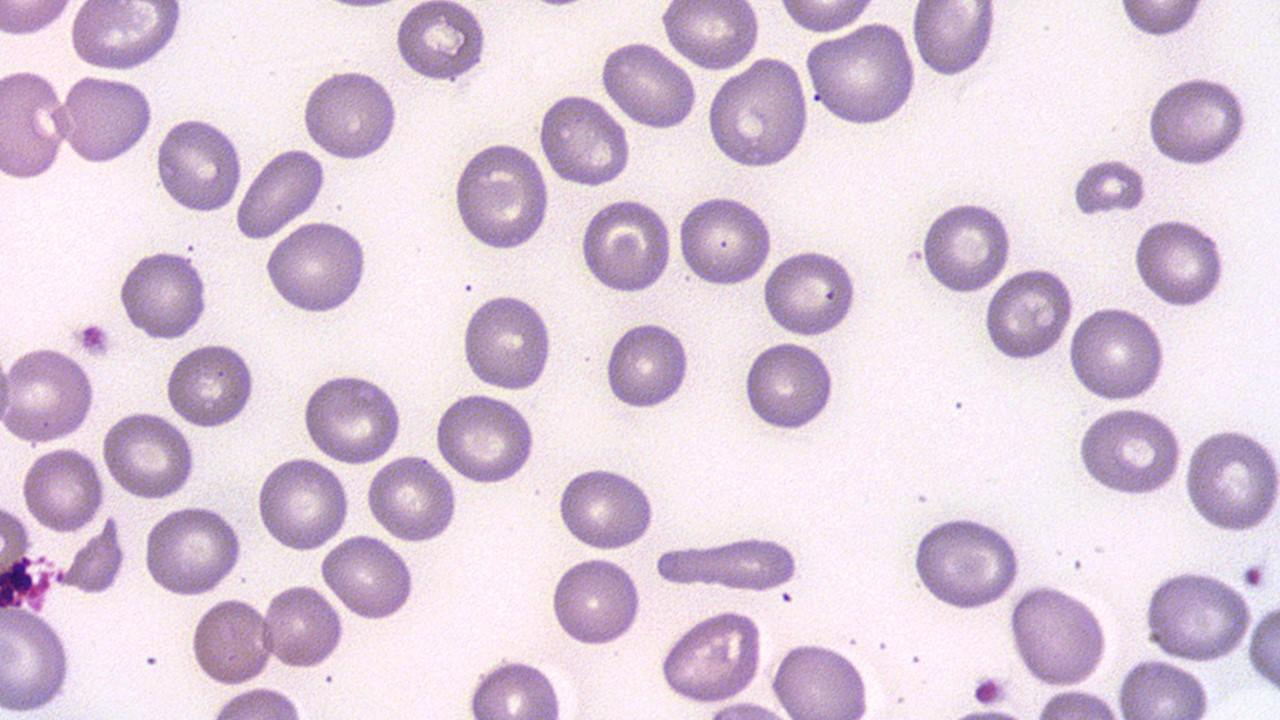Platelets: (71, 318, 115, 360)
RBC: (804, 20, 918, 129), (703, 56, 812, 170), (450, 139, 552, 252), (1139, 566, 1253, 664), (909, 514, 1023, 612), (1008, 582, 1112, 688), (1182, 423, 1278, 536), (656, 607, 764, 705), (1066, 302, 1168, 404), (1073, 404, 1183, 498), (263, 220, 369, 317), (1143, 74, 1251, 168), (300, 368, 405, 464), (142, 502, 246, 598), (459, 291, 557, 392), (433, 392, 540, 484), (0, 343, 95, 446), (577, 196, 675, 295), (676, 192, 774, 290), (301, 65, 400, 162), (254, 453, 350, 553), (536, 91, 634, 188), (547, 553, 644, 650), (741, 336, 837, 434), (982, 264, 1074, 365), (918, 198, 1014, 294), (59, 72, 155, 168), (759, 246, 859, 338), (596, 40, 698, 130), (1132, 215, 1228, 310), (556, 463, 656, 554), (153, 114, 243, 215), (319, 530, 417, 622), (99, 411, 198, 502), (116, 247, 210, 342), (234, 144, 329, 237), (365, 451, 459, 544), (766, 640, 875, 718), (163, 339, 256, 430), (0, 602, 75, 714), (603, 318, 692, 412), (68, 0, 184, 72), (393, 0, 490, 86), (0, 66, 72, 181), (190, 594, 275, 688), (19, 443, 105, 535), (260, 580, 345, 671), (677, 534, 802, 592), (660, 0, 762, 71), (910, 0, 999, 79), (464, 656, 568, 716), (1113, 655, 1213, 716), (1068, 156, 1150, 222), (1244, 592, 1280, 700), (207, 684, 308, 720), (0, 492, 34, 596), (1116, 1, 1208, 39), (775, 0, 880, 33), (1031, 684, 1127, 718), (0, 0, 74, 37)
